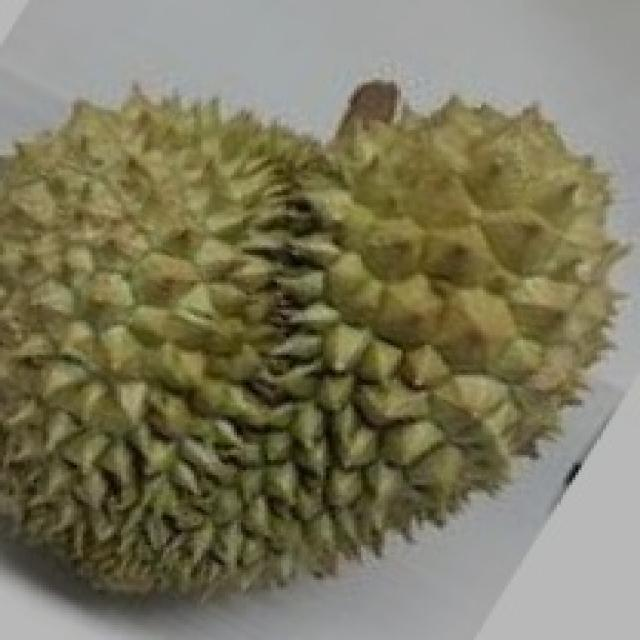fruit: (274, 233, 640, 625), (0, 275, 363, 637)
